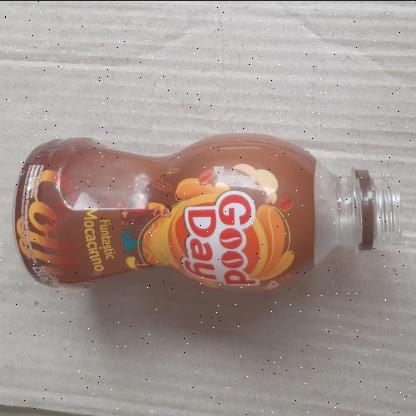Plastic Bottle: (14, 134, 404, 291)
